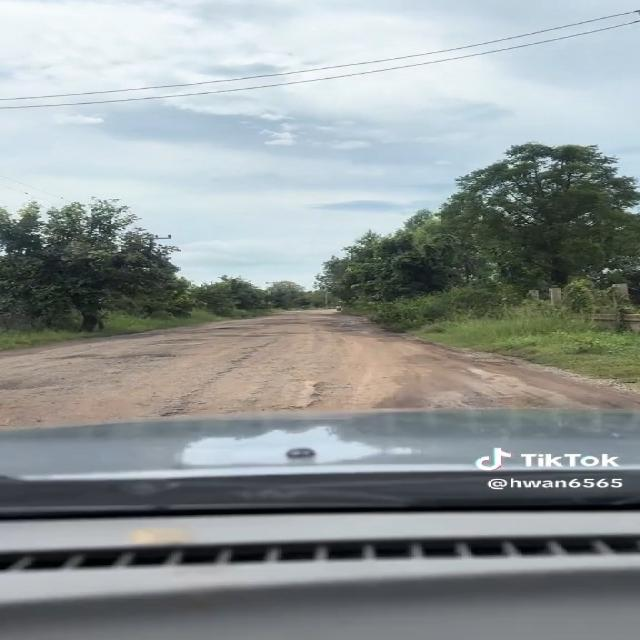Poth-hole: (219, 333, 278, 405)
